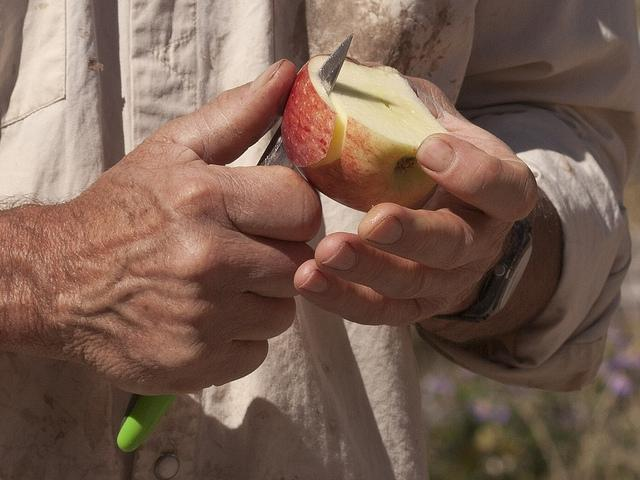apple: (280, 54, 452, 213)
